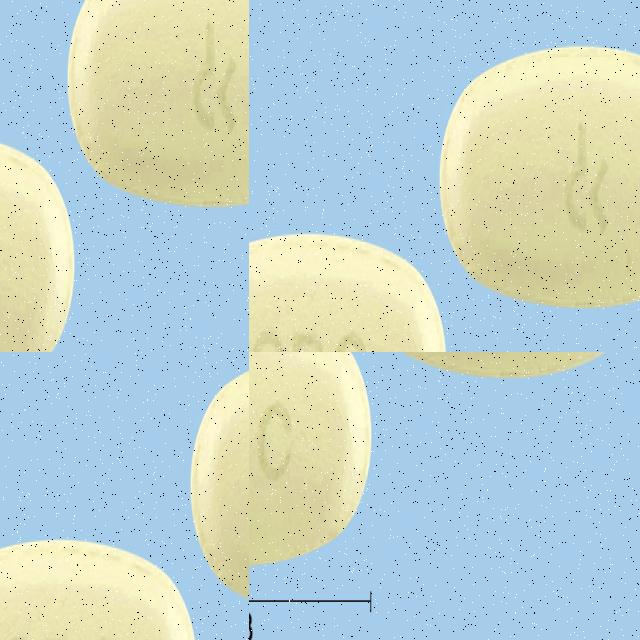Augmentin: (0, 550, 213, 640), (177, 352, 249, 607)
Azaprine -25mg: (85, 0, 249, 352)
Clarid - 250mg: (440, 29, 640, 304), (249, 223, 455, 352)
Clirocin: (249, 352, 373, 571)
